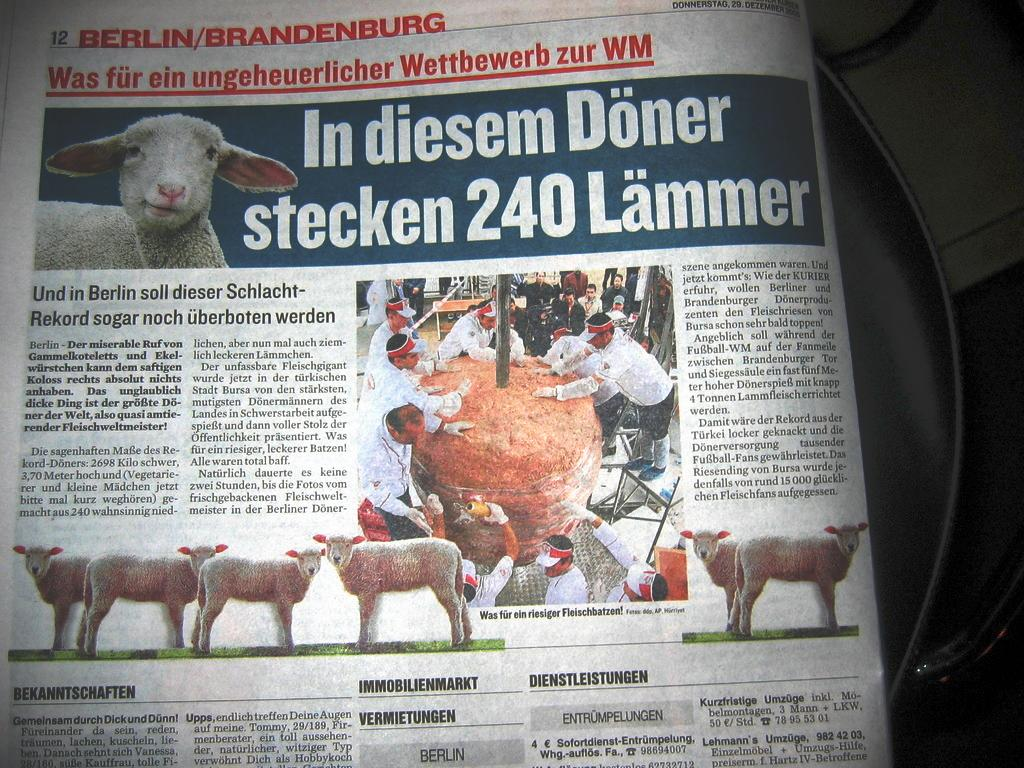Sheep: (37, 107, 296, 264), (310, 534, 476, 654), (728, 521, 864, 637), (678, 530, 823, 636), (80, 546, 227, 648), (192, 549, 328, 648), (8, 544, 88, 658)
